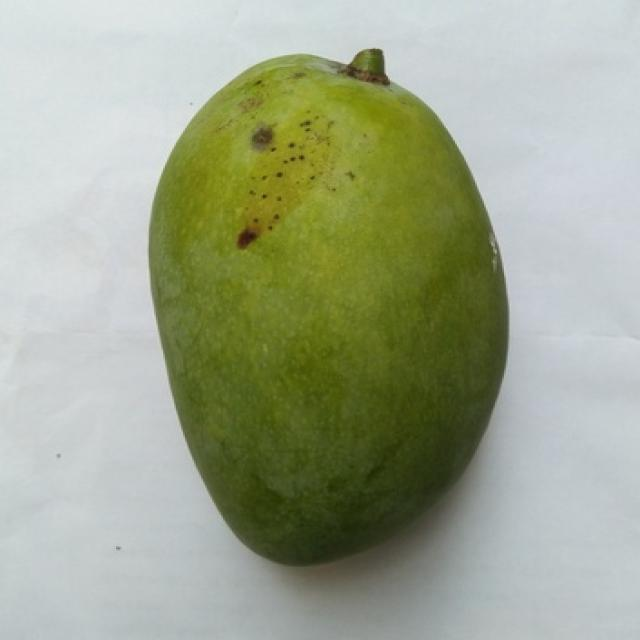Mango: (149, 52, 506, 561)
